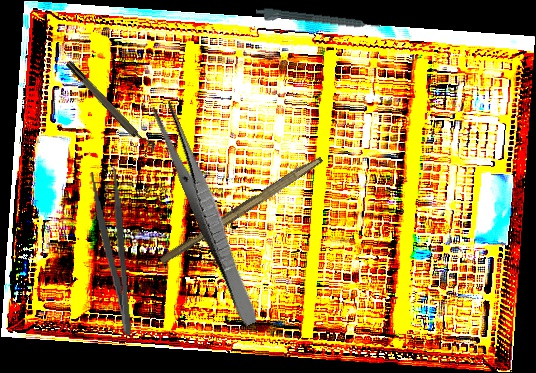Dressing Forceps: (148, 99, 266, 328), (89, 166, 136, 339)
Fixation Ring: (63, 55, 159, 158)
Handpiece: (254, 6, 381, 36)
Scalpel Handle: (158, 150, 324, 269)
